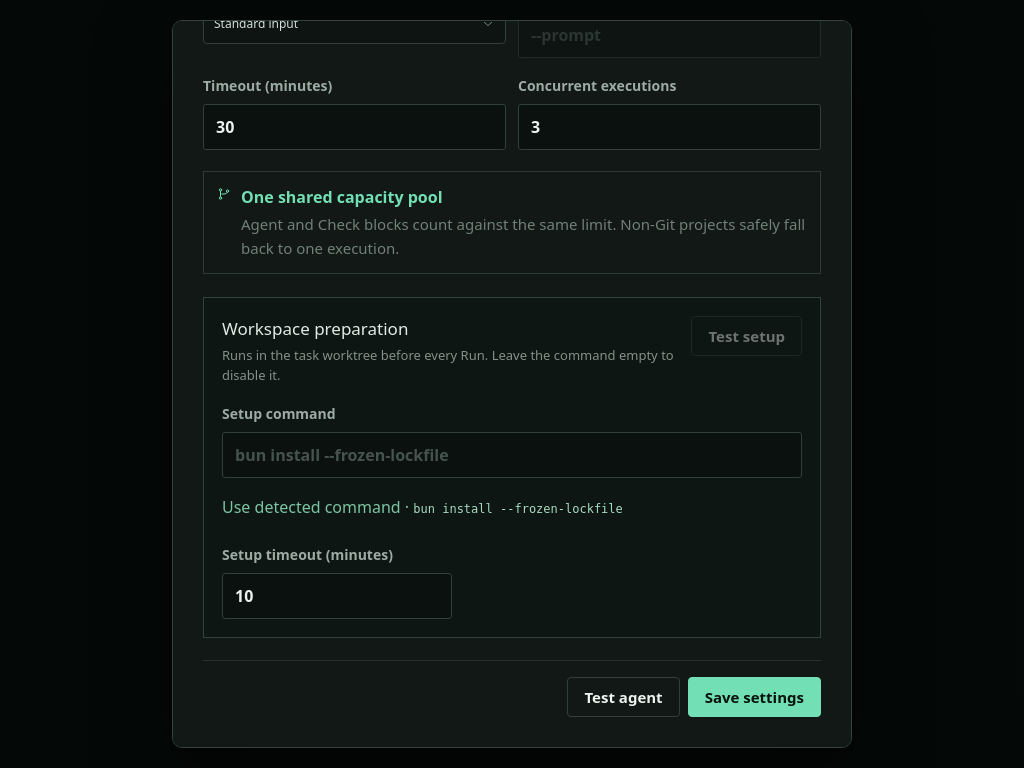
SettingsPanel workspace preparation › shows request errors when the Workspace setup test cannot start
(page scrolled)
Click the button "Use detected command · bun install --frozen-lockfile".
click(512, 507)  # box left=222, top=487, right=802, bottom=527
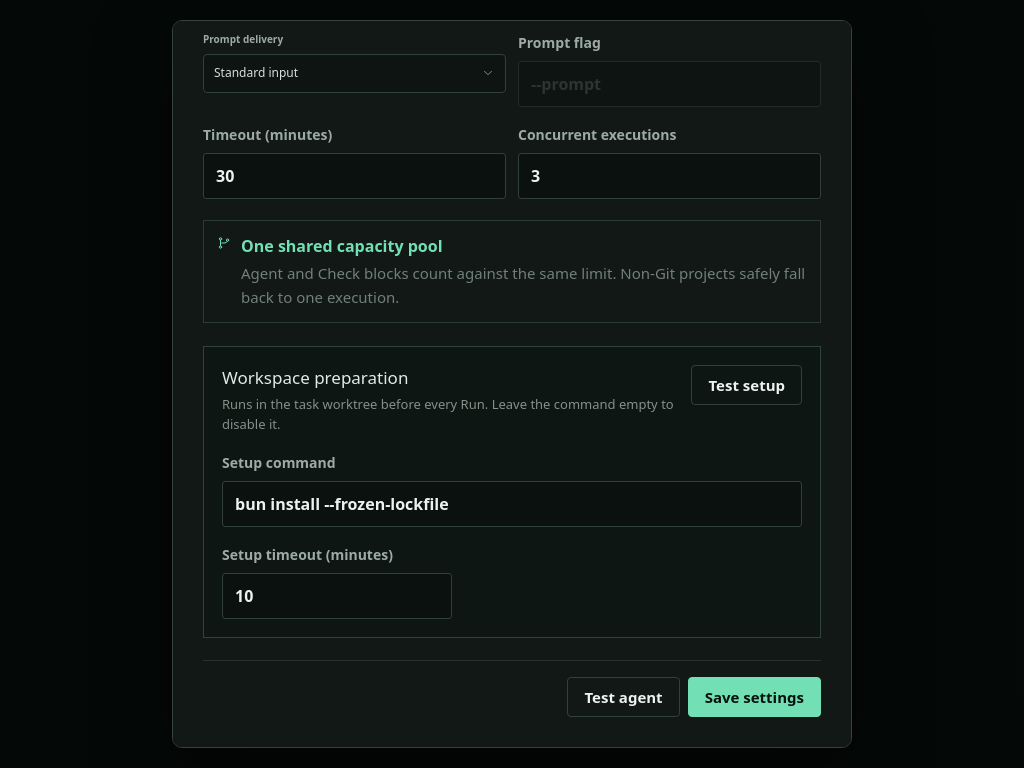
Click the button "Test setup".
click(747, 385)  # box left=692, top=365, right=802, bottom=405
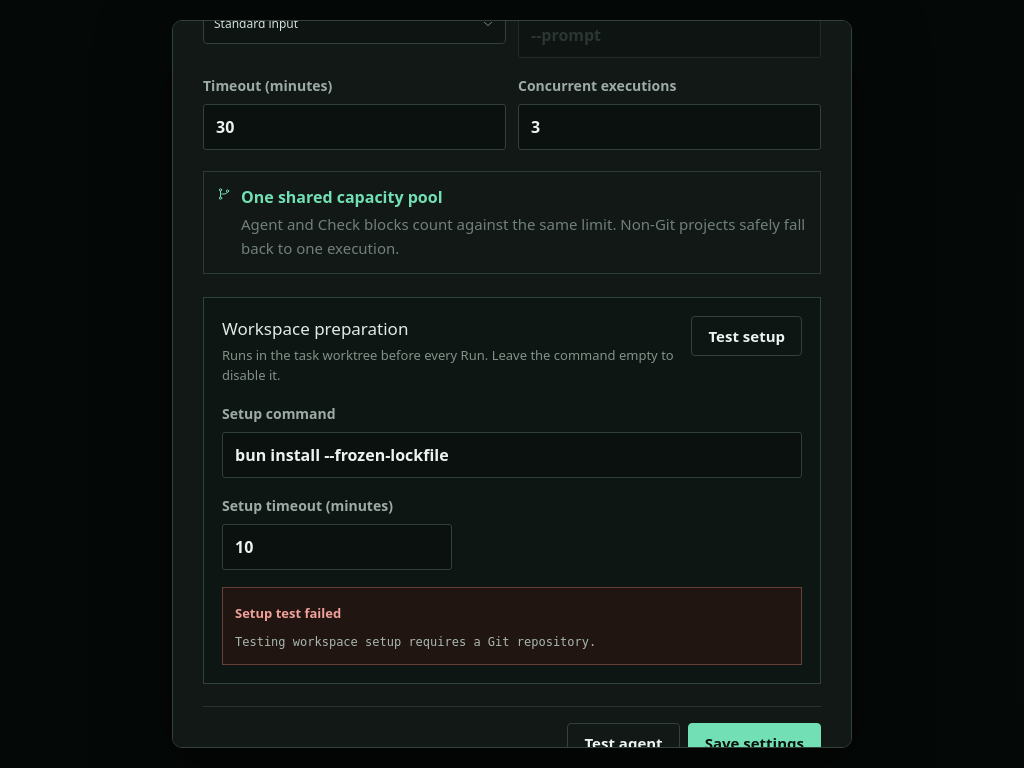
expect the text "Setup test failed" is shown: met, box left=235, top=604, right=341, bottom=622
expect the text "Testing workspace setup requires a Git repository." is shown: met, box left=235, top=635, right=596, bottom=649
